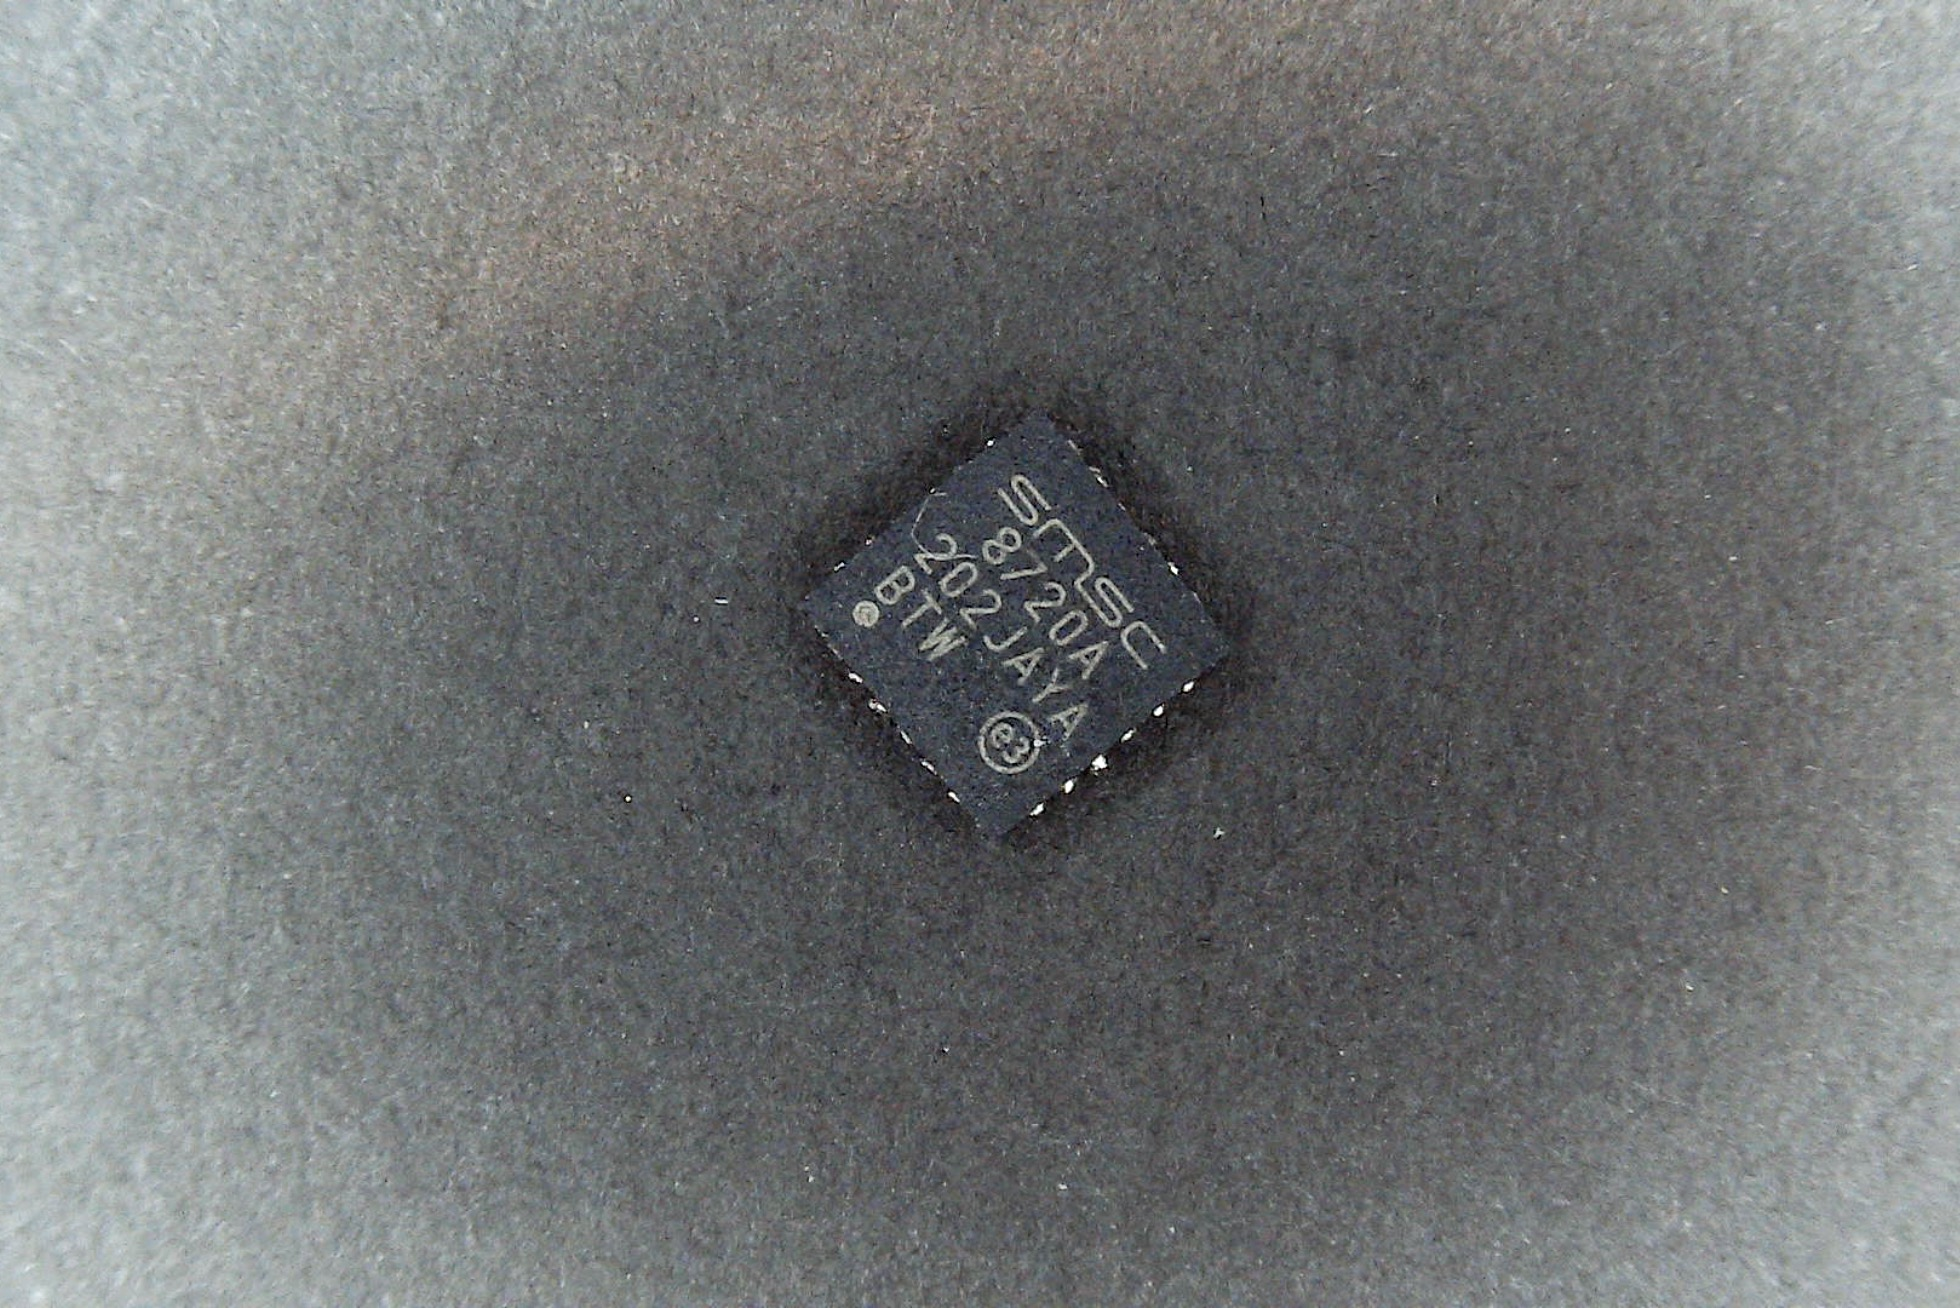bbox: (778, 409, 1232, 845)
